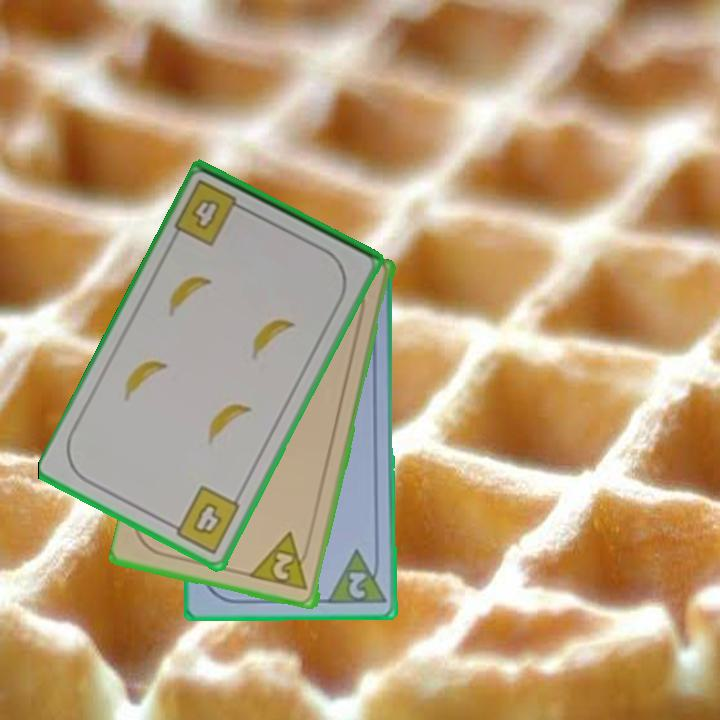2p: (249, 529, 312, 594), (325, 547, 390, 607)
4b: (164, 482, 244, 557), (171, 176, 252, 249)
